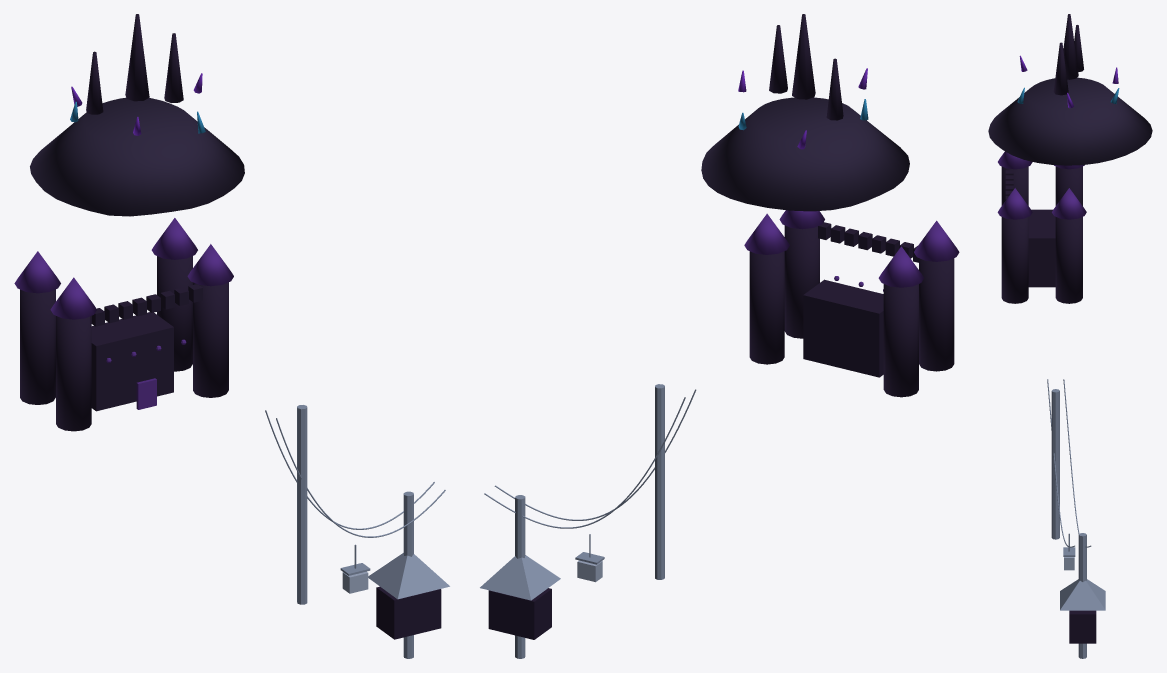
File: buildings.obj
3 renders of one model, left to right at view 1: azimuth 30°, elevation 25°; view 2: azimuth 150°, elevation 25°; view 3: azimuth 270°, elevation 25°, orthographic. The views are drawn at different scales.
Parts seen in each view (by area): view 1: Default; view 2: Default; view 3: Default.
Part boxes in pixels (left/top/right/bottom): Default: left=14, top=14, right=449, bottom=658; Default: left=480, top=14, right=959, bottom=658; Default: left=988, top=14, right=1152, bottom=658.
Size of the model in its own units: 13.86 by 22 by 6.07.
